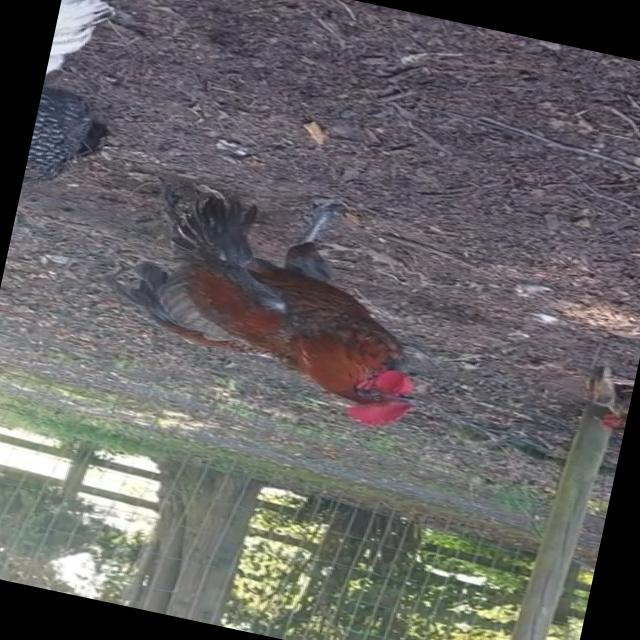wingstretching: (91, 167, 458, 456)
